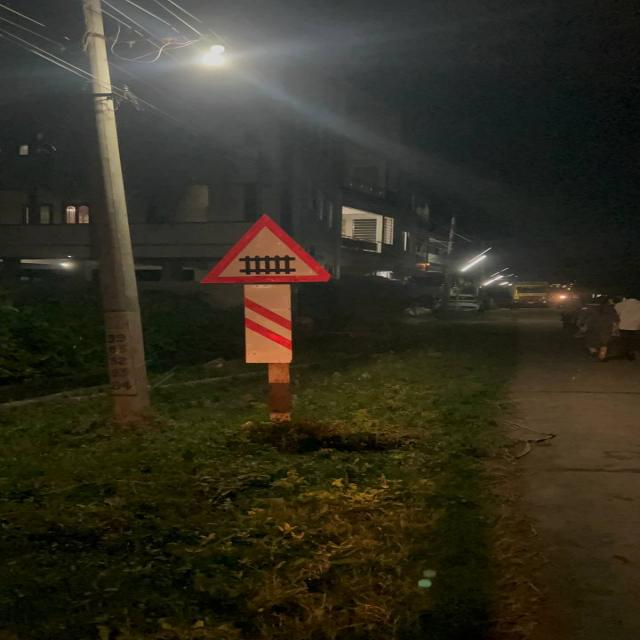200 metres: (191, 202, 344, 373)
